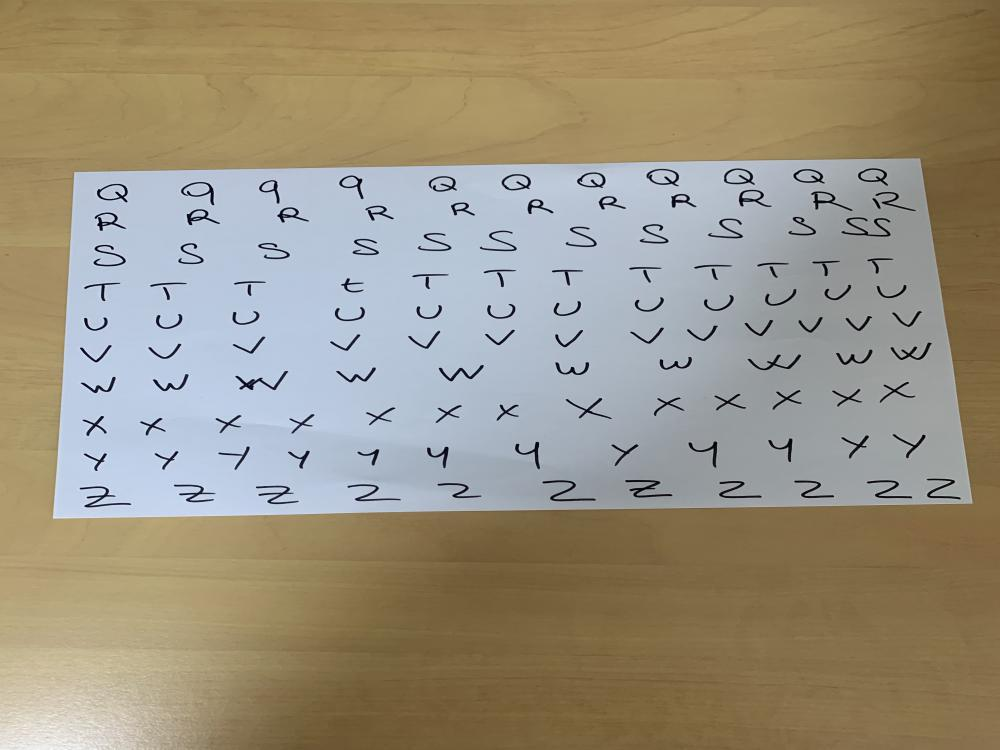9: (181, 180, 216, 206), (338, 175, 365, 200), (258, 179, 282, 205)
Q: (644, 168, 682, 188), (96, 182, 130, 204), (856, 167, 891, 187), (722, 167, 758, 186), (792, 168, 827, 186), (501, 173, 532, 191), (576, 171, 606, 189), (428, 176, 458, 192)
R: (812, 190, 854, 216), (873, 192, 919, 214), (736, 188, 775, 211), (273, 207, 314, 226), (186, 207, 222, 228), (93, 212, 126, 234), (364, 203, 398, 223), (448, 201, 479, 219), (598, 196, 630, 213), (668, 191, 695, 211), (527, 198, 556, 216)
S: (701, 216, 749, 242), (480, 227, 520, 256), (90, 244, 130, 270), (560, 225, 600, 250), (254, 241, 294, 263), (637, 222, 672, 247), (175, 240, 208, 266), (783, 215, 817, 239), (419, 231, 453, 252), (842, 214, 869, 238), (351, 236, 380, 258), (870, 216, 896, 238)
T: (82, 280, 125, 302), (410, 271, 450, 293), (230, 278, 272, 298), (480, 268, 521, 288), (150, 282, 191, 302), (625, 264, 665, 284), (696, 262, 734, 282), (550, 268, 588, 288), (760, 260, 794, 280), (340, 275, 369, 296), (864, 256, 896, 275), (812, 259, 845, 277)
U: (701, 293, 737, 315), (331, 305, 372, 324), (484, 302, 522, 322), (630, 294, 668, 312), (409, 304, 447, 322), (550, 298, 584, 318), (153, 312, 188, 330), (872, 282, 909, 299), (229, 309, 265, 326), (762, 290, 798, 306), (82, 314, 114, 332), (824, 284, 852, 302)
V: (624, 326, 668, 348), (401, 328, 444, 350), (323, 331, 366, 353), (476, 328, 520, 349), (546, 327, 586, 350), (226, 335, 272, 355), (740, 318, 778, 340), (682, 322, 719, 344), (840, 316, 880, 334), (144, 342, 184, 360), (78, 344, 114, 364), (888, 310, 926, 328), (794, 317, 829, 335)
W: (230, 370, 294, 394), (746, 353, 805, 374), (328, 365, 386, 386), (431, 364, 490, 384), (890, 342, 934, 364), (147, 374, 196, 392), (830, 348, 878, 366), (79, 376, 122, 396), (552, 359, 595, 378), (656, 357, 698, 373)
X: (563, 394, 619, 424), (876, 379, 919, 404), (76, 412, 114, 439), (282, 413, 326, 436), (134, 416, 174, 441), (432, 402, 466, 430), (359, 404, 397, 428), (826, 386, 865, 409), (707, 392, 749, 413), (770, 389, 806, 413), (650, 396, 691, 417), (213, 412, 246, 434), (492, 402, 524, 423)
Y: (684, 438, 726, 468), (891, 432, 933, 461), (606, 439, 644, 470), (215, 445, 258, 472), (761, 438, 802, 466), (836, 433, 872, 460), (514, 440, 548, 468), (424, 444, 456, 471), (288, 448, 320, 471), (80, 448, 110, 472), (356, 448, 386, 468), (152, 450, 182, 470)
Z: (539, 476, 598, 505), (74, 486, 136, 511), (618, 476, 674, 502), (346, 482, 402, 506), (867, 477, 918, 502), (166, 482, 218, 506), (252, 483, 303, 507), (715, 480, 764, 504), (787, 477, 838, 500), (432, 480, 484, 502), (924, 474, 962, 503)
